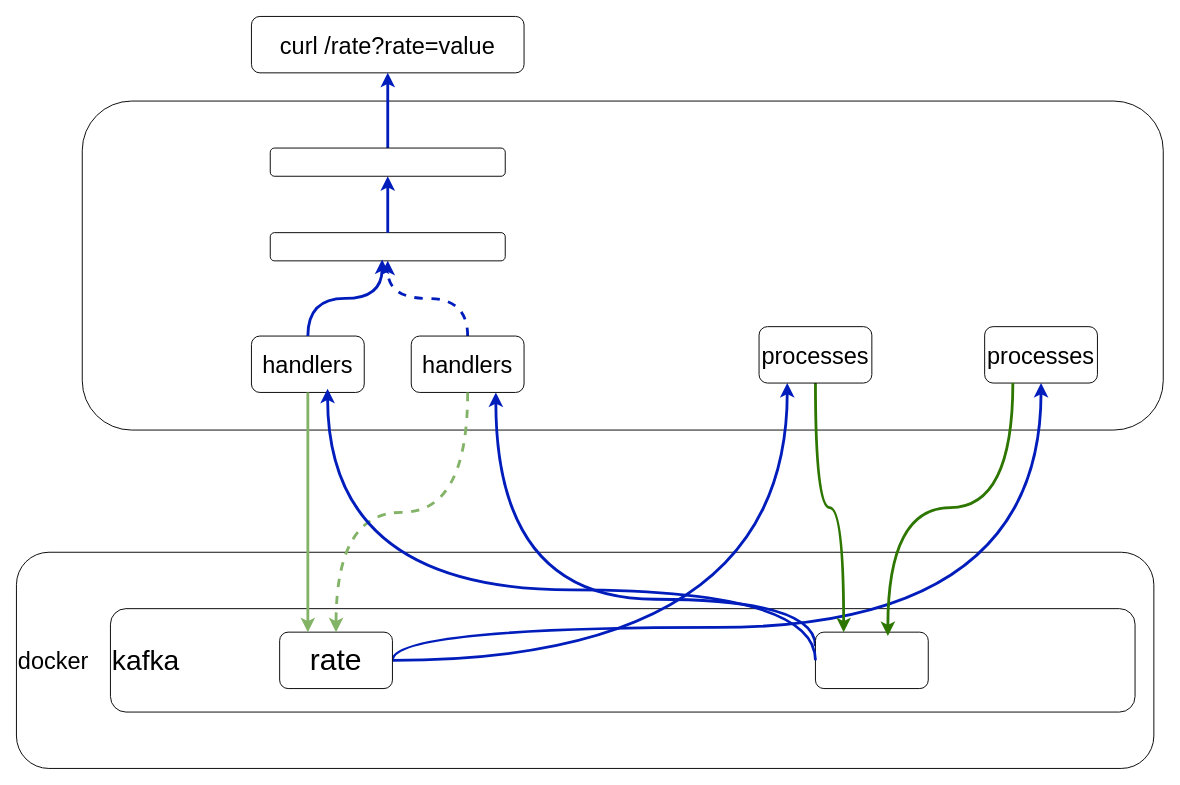
Image size: 1180x785. Some labels were removed from this diagram. The box of each missing label's shape, as (x1, y1, x2, y2) in pixels:
ingress: (269, 147, 505, 176)
minikube: (81, 100, 1163, 430)
service load balancing: (269, 232, 505, 261)
total: (815, 631, 928, 689)
